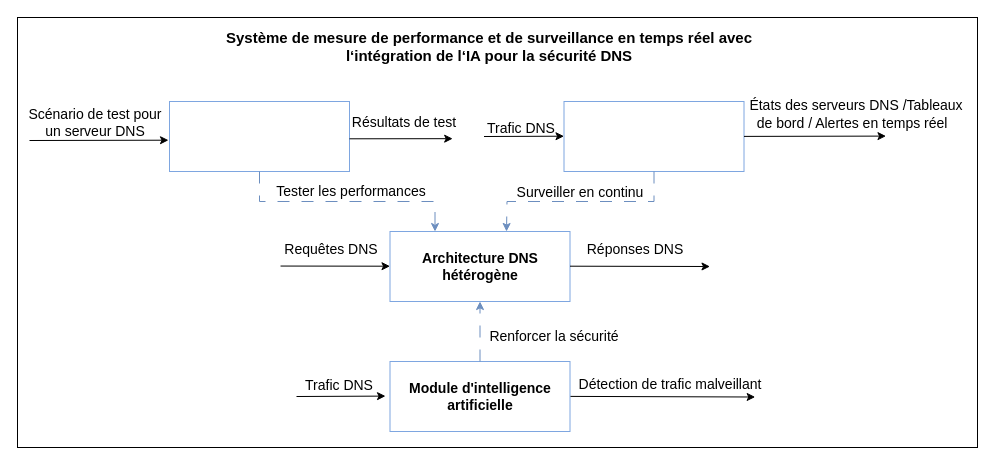
Image size: 995x465. Some labels were removed from this diagram. The box of each missing label's shape, as (x1, y1, x2, y2) in pixels:
Interface web pour la mesure de performance: (168, 100, 350, 172)
Système de surveillance en temps réel: (563, 100, 744, 172)
